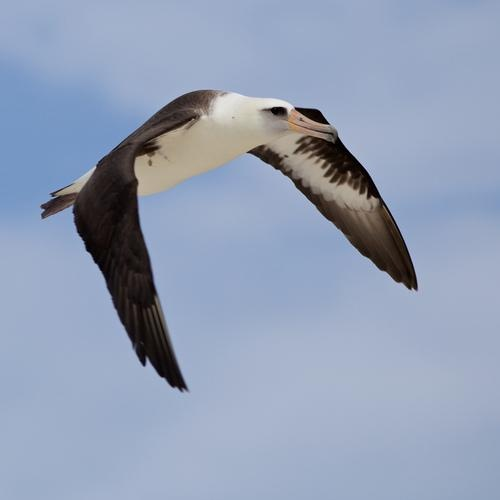bird: (30, 87, 420, 395)
